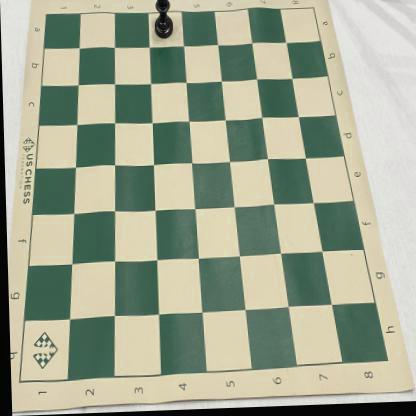black-bishop: (154, 0, 174, 41)
